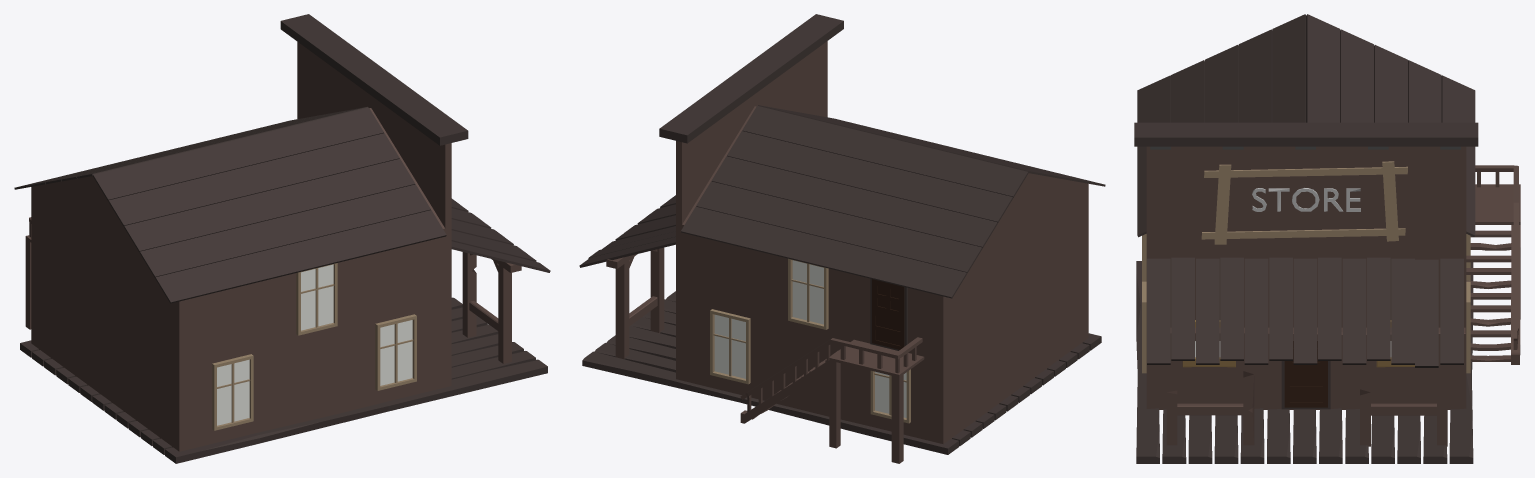
File: General Store.fbx
3 views of the same model, side by side, from view 1: azimuth 30°, elevation 25°; view 2: azimuth 150°, elevation 25°; view 3: azimuth 270°, elevation 25° (orthographic). The views are drawn at different scales.
Visible parts, largest first — view 1: General_Store_Merged; view 2: General_Store_Merged; view 3: General_Store_Merged.
Part boxes in pixels (box(x1,y1,x2,y2)): General_Store_Merged: box(14, 14, 550, 463); General_Store_Merged: box(579, 14, 1105, 463); General_Store_Merged: box(1134, 14, 1520, 463).
Bounding box in the file's own units: 1303 × 847 × 1044.
